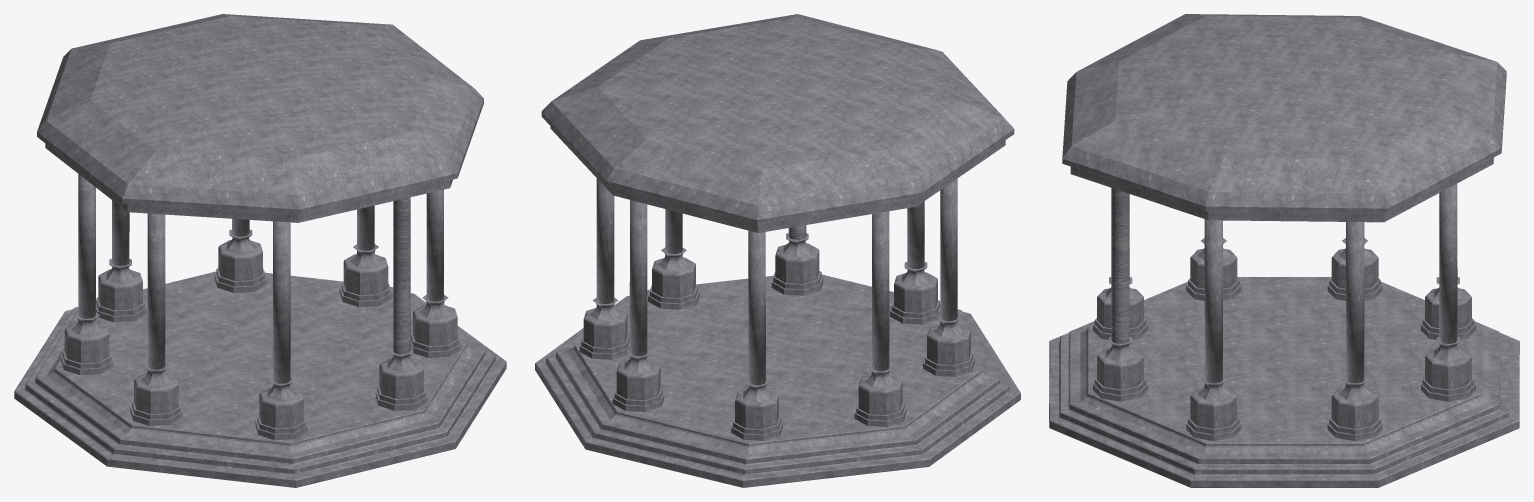
The model's file is zipowrap.glb.
3 renders of one model, left to right at view 1: azimuth 30°, elevation 25°; view 2: azimuth 150°, elevation 25°; view 3: azimuth 270°, elevation 25°, orthographic. The views are drawn at different scales.
Parts seen in each view (by area): view 1: Top.001, Base.001, Cylinder.050, Cylinder.062, Cylinder.063, Cylinder.051, Cylinder.055, Cylinder.052, Cylinder.064, Cylinder.061, Cylinder.049, Cylinder.067 (+5 smaller); view 2: Top.001, Base.001, Cylinder.051, Cylinder.068, Cylinder.069, Cylinder.050, Cylinder.056, Cylinder.052, Cylinder.064, Cylinder.067, Cylinder.058, Cylinder.049 (+5 smaller); view 3: Top.001, Base.001, Cylinder.057, Cylinder.056, Cylinder.068, Cylinder.063, Cylinder.055, Cylinder.058, Cylinder.064, Cylinder.067, Cylinder.049, Cylinder.052 (+2 smaller).
Part boxes in pixels (box(x1,y1,x2,y2)): Top.001: box(37, 14, 483, 222); Base.001: box(14, 271, 506, 487); Cylinder.050: box(147, 213, 165, 369); Cylinder.062: box(273, 221, 290, 383); Cylinder.063: box(393, 197, 410, 354); Cylinder.051: box(78, 174, 95, 318); Cylinder.055: box(339, 254, 392, 307); Cylinder.052: box(61, 322, 113, 375); Cylinder.064: box(375, 358, 427, 410); Cylinder.061: box(255, 387, 307, 440); Cylinder.049: box(130, 373, 182, 425); Cylinder.067: box(214, 240, 266, 292); Top.001: box(541, 14, 1014, 232); Base.001: box(535, 274, 1020, 487); Cylinder.051: box(871, 211, 889, 371); Cylinder.068: box(629, 200, 647, 356); Cylinder.069: box(748, 230, 765, 385); Cylinder.050: box(940, 178, 957, 321); Cylinder.056: box(596, 178, 614, 304); Cylinder.052: box(854, 374, 906, 426); Cylinder.064: box(771, 243, 823, 295); Cylinder.067: box(612, 359, 664, 411); Cylinder.058: box(648, 257, 699, 309); Cylinder.049: box(923, 324, 974, 376); Top.001: box(1062, 14, 1506, 222); Base.001: box(1049, 277, 1519, 487); Cylinder.057: box(1204, 219, 1222, 383); Cylinder.056: box(1346, 222, 1364, 383); Cylinder.068: box(1439, 184, 1457, 343); Cylinder.063: box(1111, 188, 1129, 343); Cylinder.055: box(1327, 387, 1382, 440); Cylinder.058: box(1186, 387, 1241, 440); Cylinder.064: box(1093, 348, 1147, 401); Cylinder.067: box(1421, 348, 1475, 401); Cylinder.049: box(1186, 248, 1241, 300); Cylinder.052: box(1327, 248, 1382, 300).
Bounding box in the file's own units: 6 × 4.39 × 6.
1 material, 1 textured.
